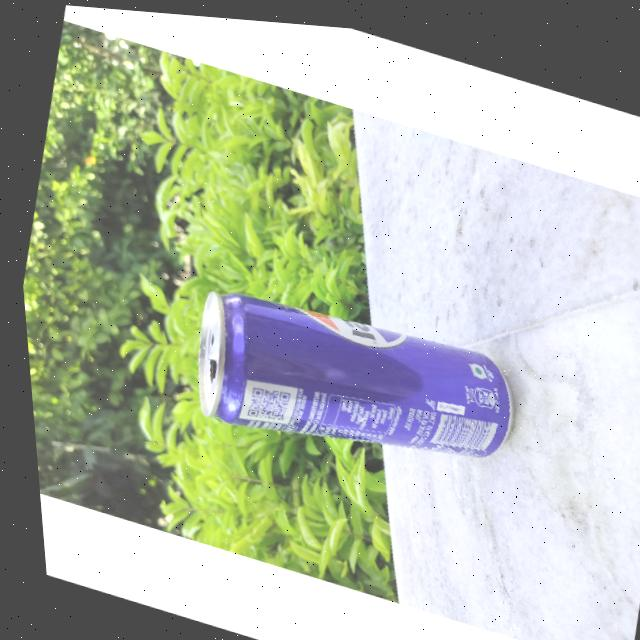Pepsi: (164, 249, 532, 503)
